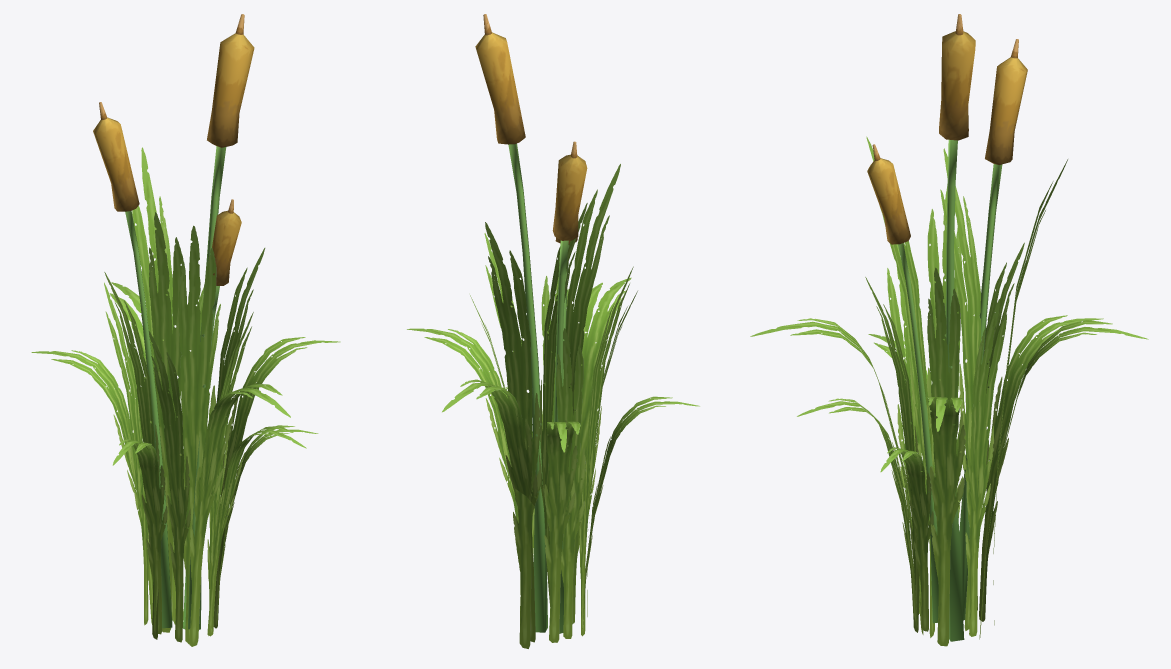
Rendered from SM_ENV_plant_ancient_05.fbx.
3 renders of one model, left to right at view 1: azimuth 30°, elevation 25°; view 2: azimuth 150°, elevation 25°; view 3: azimuth 270°, elevation 25°, orthographic. The views are drawn at different scales.
Parts seen in each view (by area): view 1: SM_ENV_plant_ancient_05_LOD0; view 2: SM_ENV_plant_ancient_05_LOD0; view 3: SM_ENV_plant_ancient_05_LOD0.
Boxes of the visible parts, left/top/right/bottom form: SM_ENV_plant_ancient_05_LOD0: left=31, top=14, right=340, bottom=646; SM_ENV_plant_ancient_05_LOD0: left=407, top=14, right=699, bottom=648; SM_ENV_plant_ancient_05_LOD0: left=750, top=14, right=1148, bottom=646.
Bounding box in the file's own units: 93.28 × 193 × 112.
